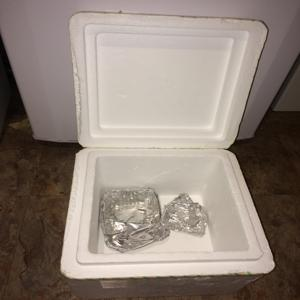metal: (100, 187, 164, 251), (159, 192, 214, 238)
